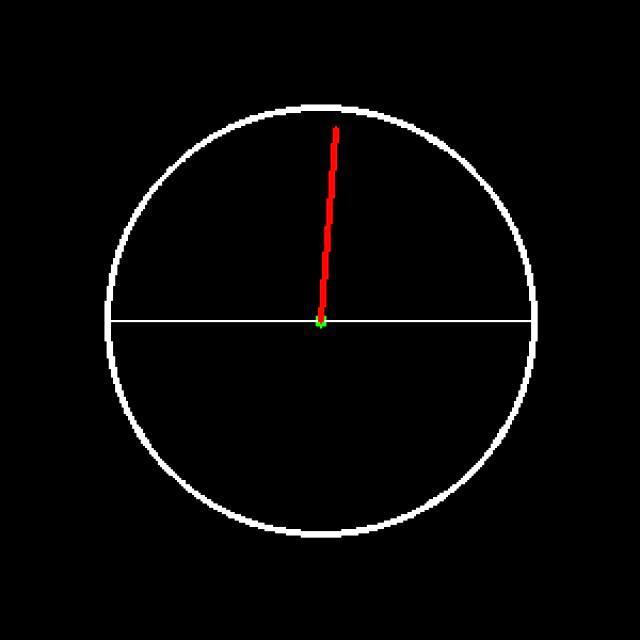Needle_Tip: (315, 110, 357, 156)
Needle_base: (284, 298, 357, 360)
